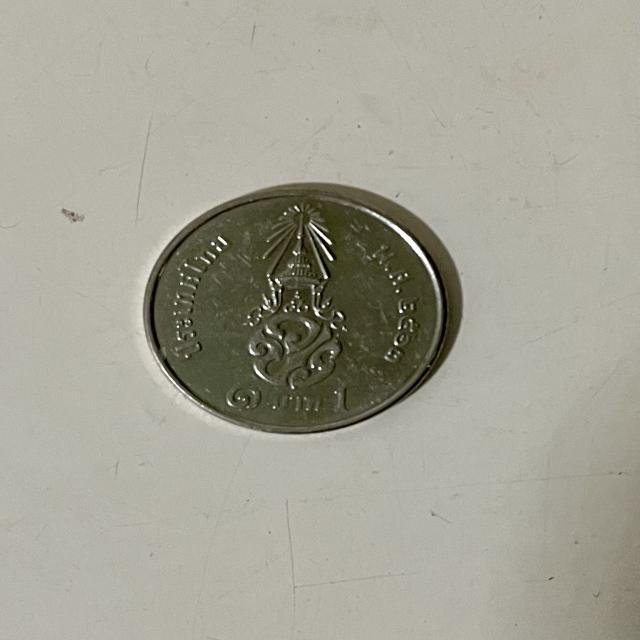1 Bath: (135, 181, 457, 444)
